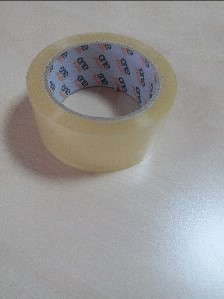band: (22, 26, 182, 177)
